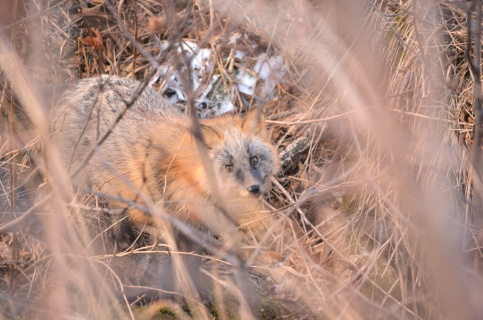Fox: (47, 73, 282, 313)
